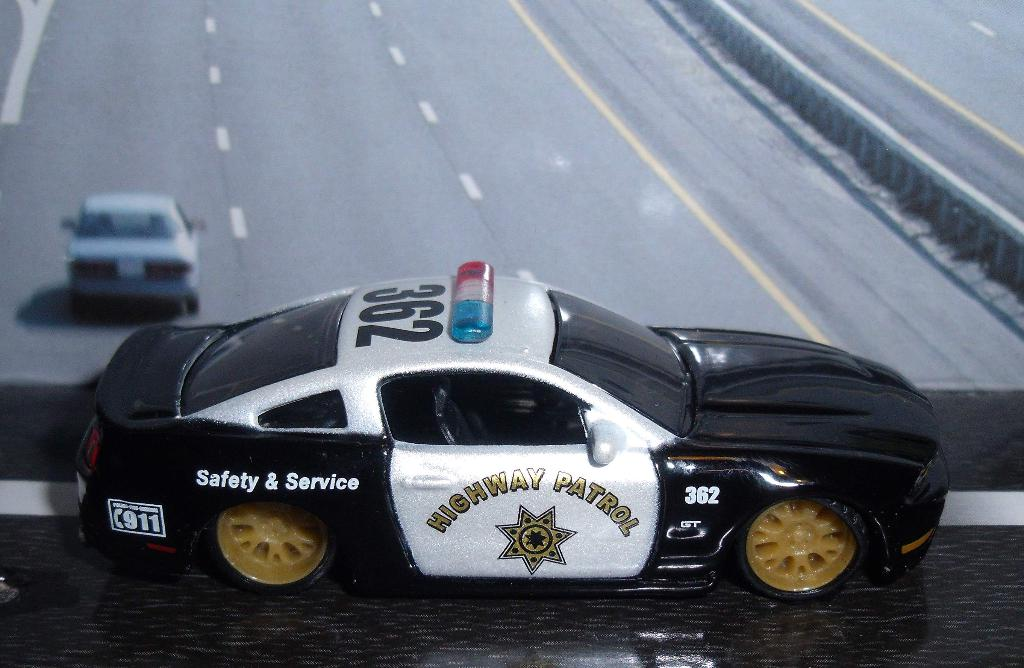mobil: (105, 284, 952, 644), (60, 195, 206, 315)
